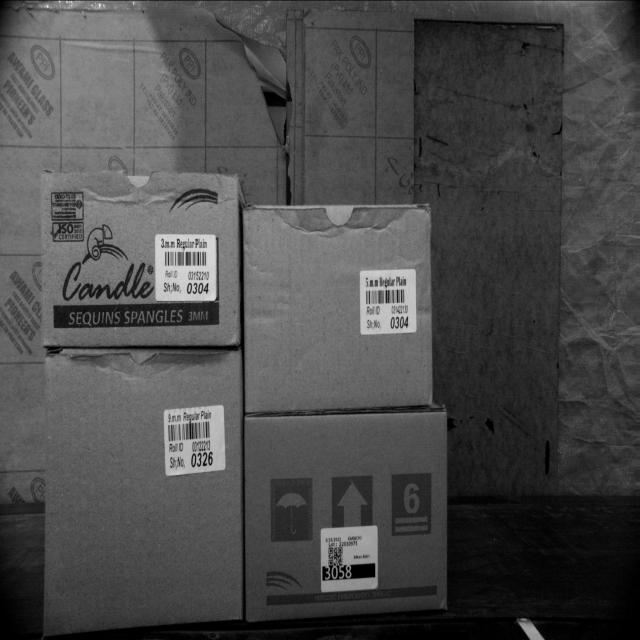cardboxes: (40, 354, 244, 627), (246, 412, 452, 624), (243, 202, 434, 414), (41, 169, 242, 347)
